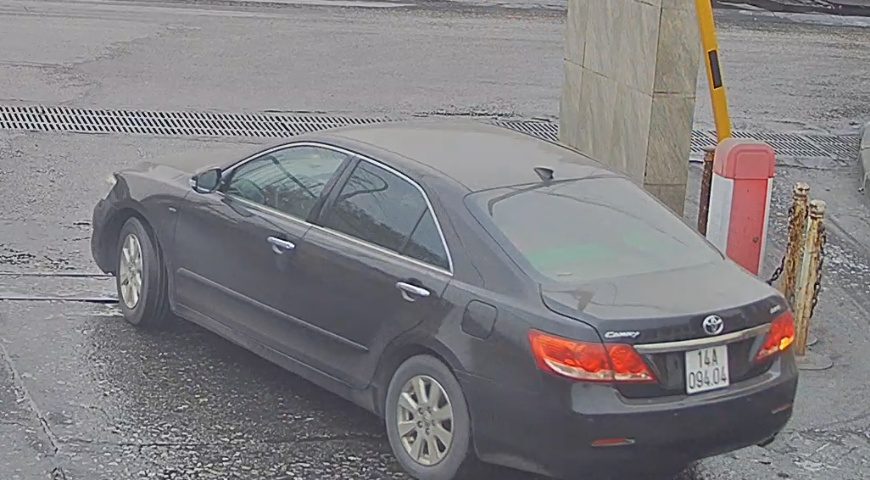vehicle plate: (674, 338, 735, 395)
